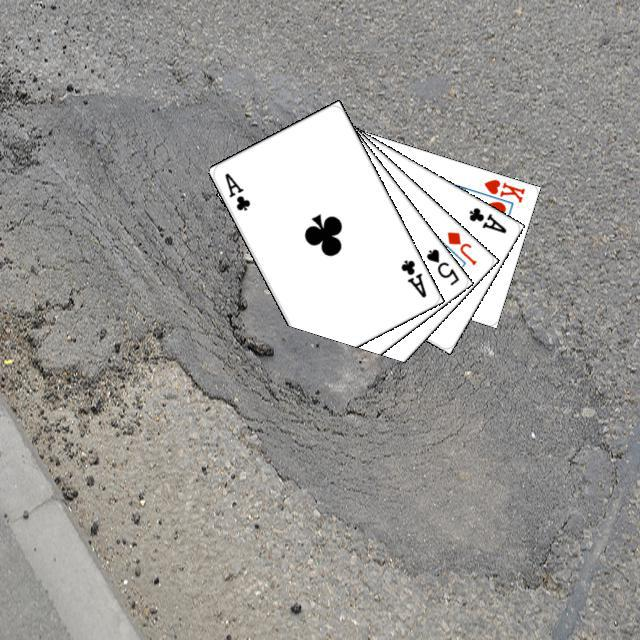5s: (421, 244, 461, 287)
Ac: (395, 255, 428, 300), (219, 168, 252, 213), (464, 202, 508, 235)
Jd: (442, 226, 478, 267)
Kh: (472, 174, 527, 208)
